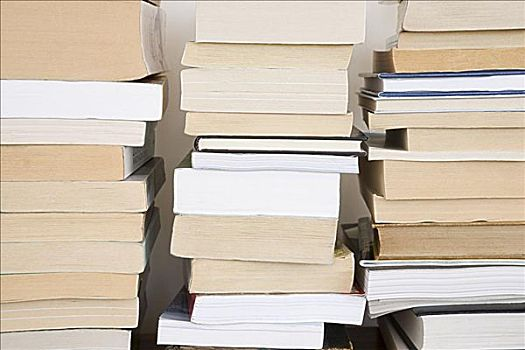book: (167, 157, 348, 221), (176, 251, 359, 299), (182, 36, 354, 74), (370, 221, 525, 262)
